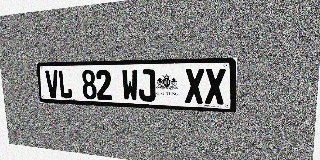2: (96, 70, 112, 100)
8: (81, 70, 97, 100)
J: (138, 69, 156, 102)
L: (58, 70, 73, 99)
V: (45, 70, 60, 98)
W: (121, 69, 139, 101)
X: (205, 68, 226, 105), (185, 69, 204, 104)
